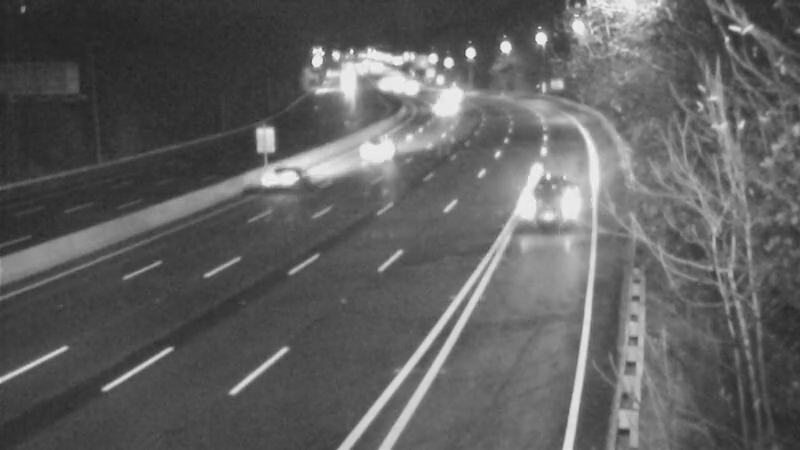vehicle: (332, 113, 412, 193), (507, 177, 587, 257), (240, 143, 320, 223), (385, 60, 435, 110), (426, 67, 476, 117), (417, 82, 467, 132)
